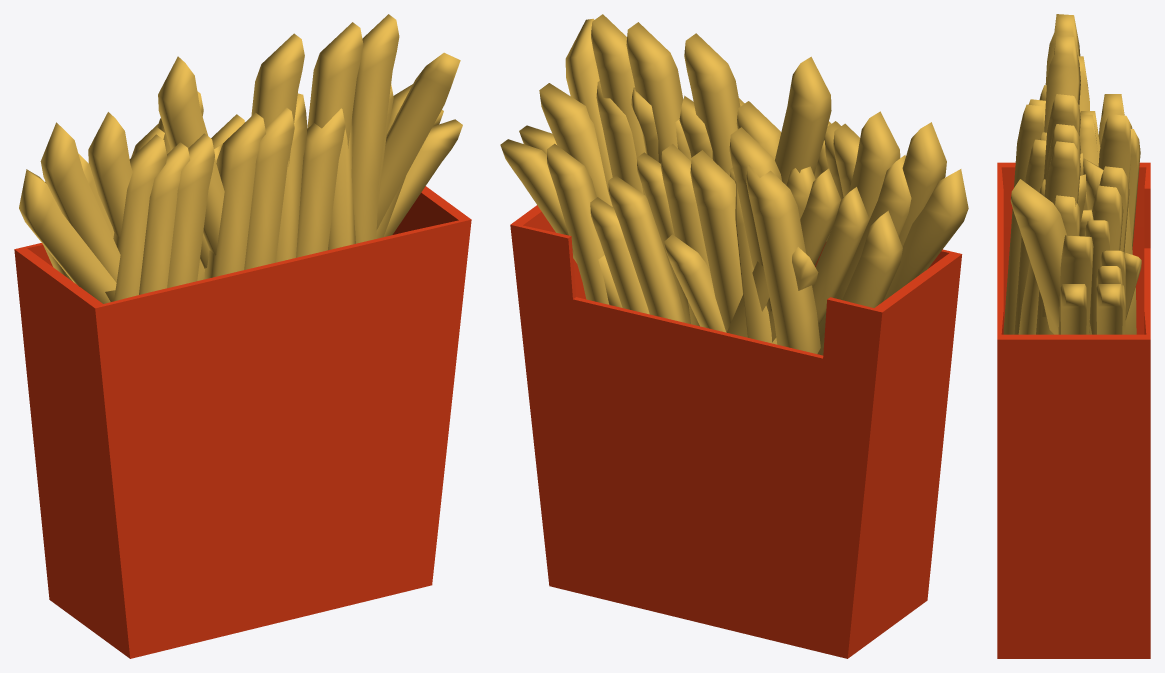
File: Fries.fbx
3 renders of one model, left to right at view 1: azimuth 30°, elevation 25°; view 2: azimuth 150°, elevation 25°; view 3: azimuth 270°, elevation 25°, orthographic. The views are drawn at different scales.
Parts seen in each view (by area): view 1: Cube.023, Cube.025; view 2: Cube.023, Cube.025; view 3: Cube.023, Cube.025.
Boxes of the visible parts, box(x1,y1,x2,y2) form: Cube.023: box(14, 186, 471, 658); Cube.025: box(19, 14, 462, 303); Cube.023: box(510, 205, 962, 658); Cube.025: box(500, 14, 968, 355); Cube.023: box(997, 162, 1150, 658); Cube.025: box(1003, 14, 1141, 334).
Bounding box in the file's own units: 194 × 233 × 61.75.
